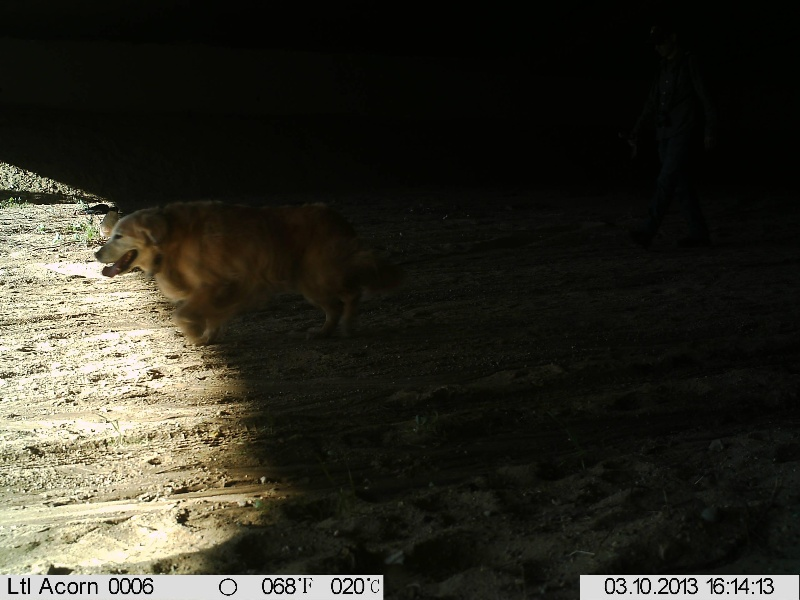dog: (95, 202, 397, 349)
